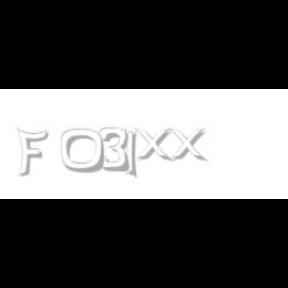3: (100, 128, 130, 172)
F: (16, 128, 48, 178)
O: (60, 128, 106, 174)
l: (125, 128, 141, 180)
x: (134, 128, 176, 162), (168, 128, 210, 162)
